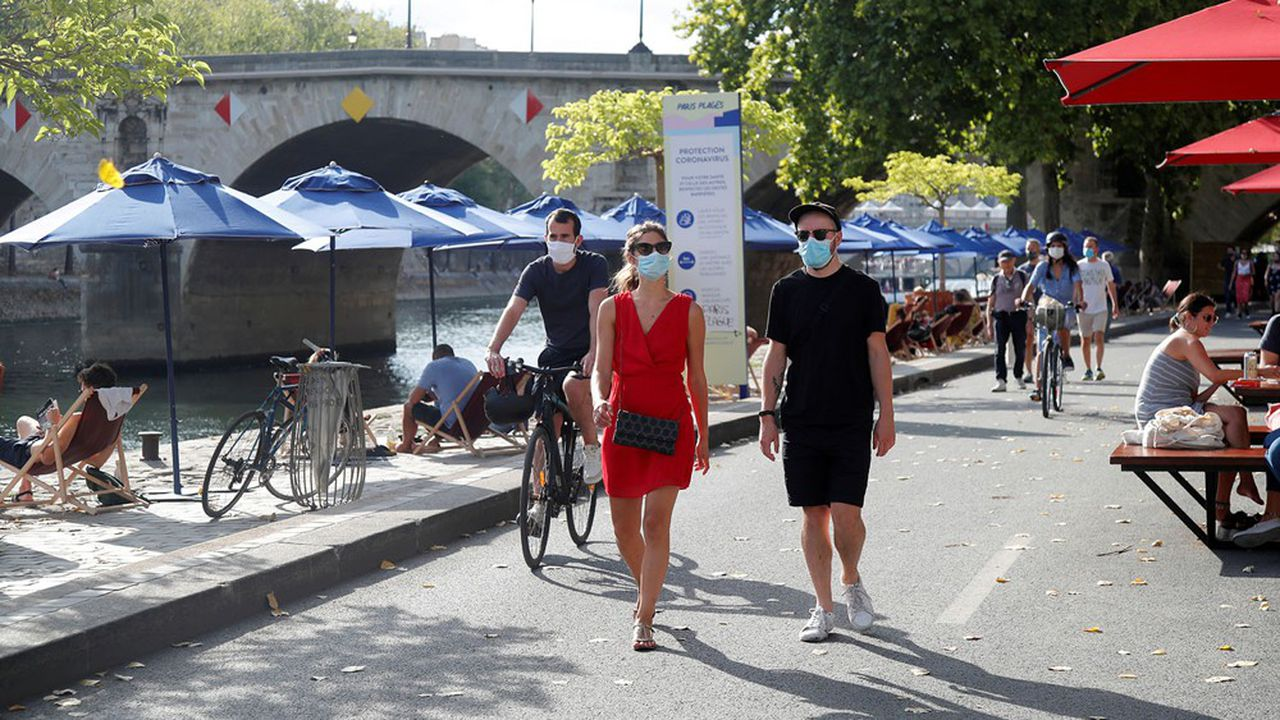with_mask: (789, 224, 850, 270), (622, 236, 675, 278), (541, 219, 585, 266), (1045, 237, 1069, 260)
without_mask: (1185, 299, 1219, 336)
